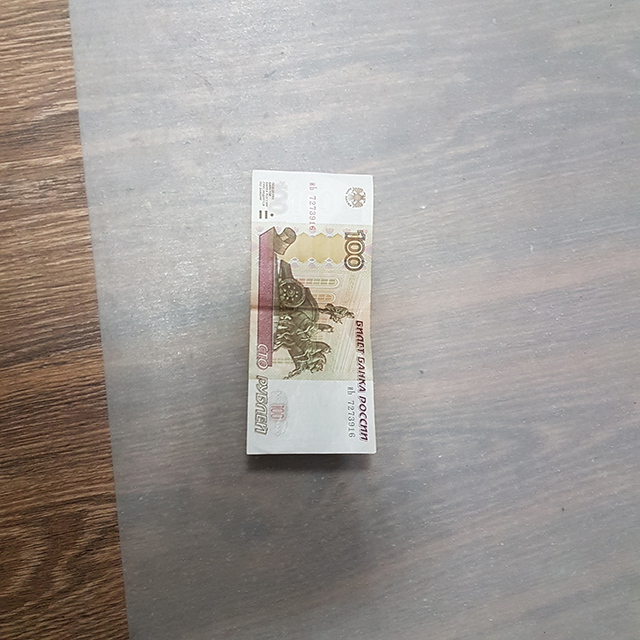banknotes: (245, 169, 374, 458)
